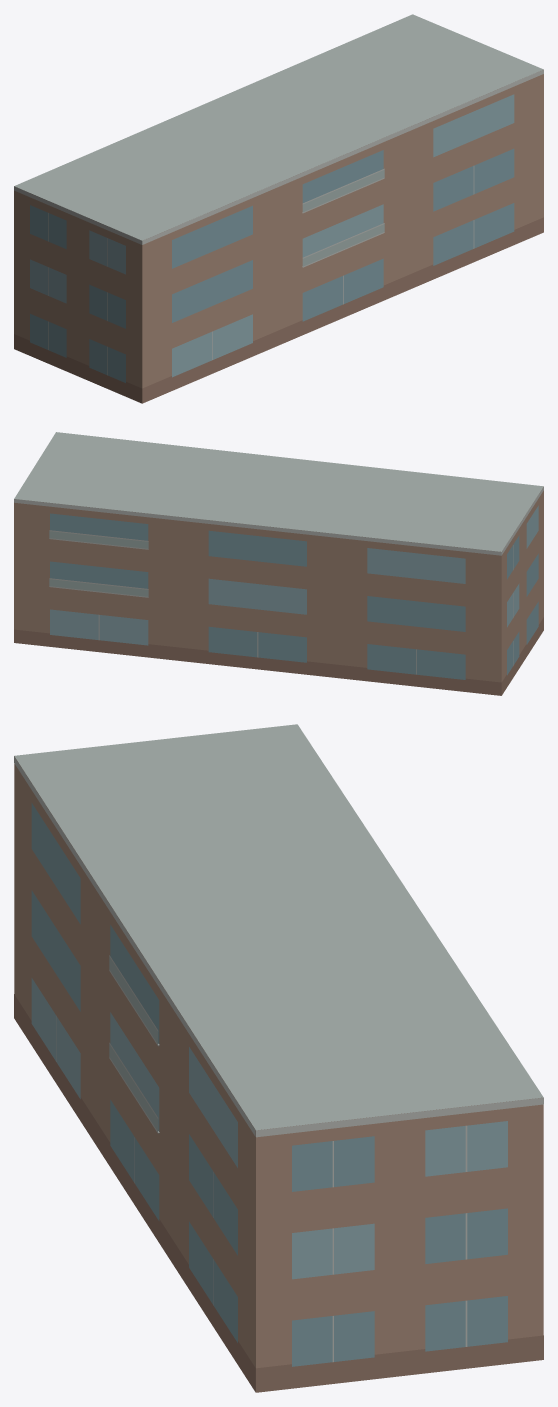
The model's file is survey-upis-32527002.glb.
3 renders of one model, top to bottom at view 1: azimuth 30°, elevation 25°; view 2: azimuth 150°, elevation 25°; view 3: azimuth 270°, elevation 25°, orthographic. The views are drawn at different scales.
Parts seen in each view (by area): view 1: survey-upis-32527002.tmp; view 2: survey-upis-32527002.tmp; view 3: survey-upis-32527002.tmp.
Part boxes in pixels (x1,y1,x2,y2): survey-upis-32527002.tmp: (14, 14, 543, 403); survey-upis-32527002.tmp: (14, 432, 543, 695); survey-upis-32527002.tmp: (14, 724, 543, 1392).
Bounding box in the file's own units: 30.39 × 9.15 × 16.75.
